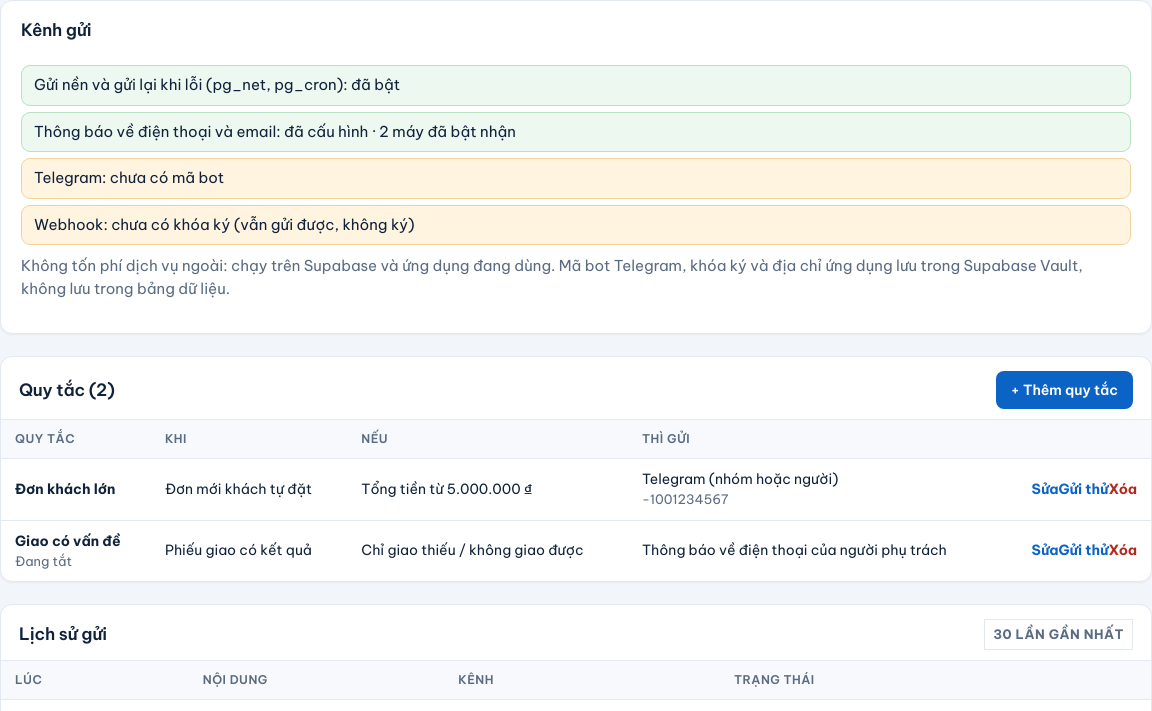
Test case: offers the problems-only condition just for delivery results and edits with the rule's version
Click the button "Sửa" in the row of "Giao có vấn đề".
click(1045, 551)  # box 1032,540 -> 1059,562
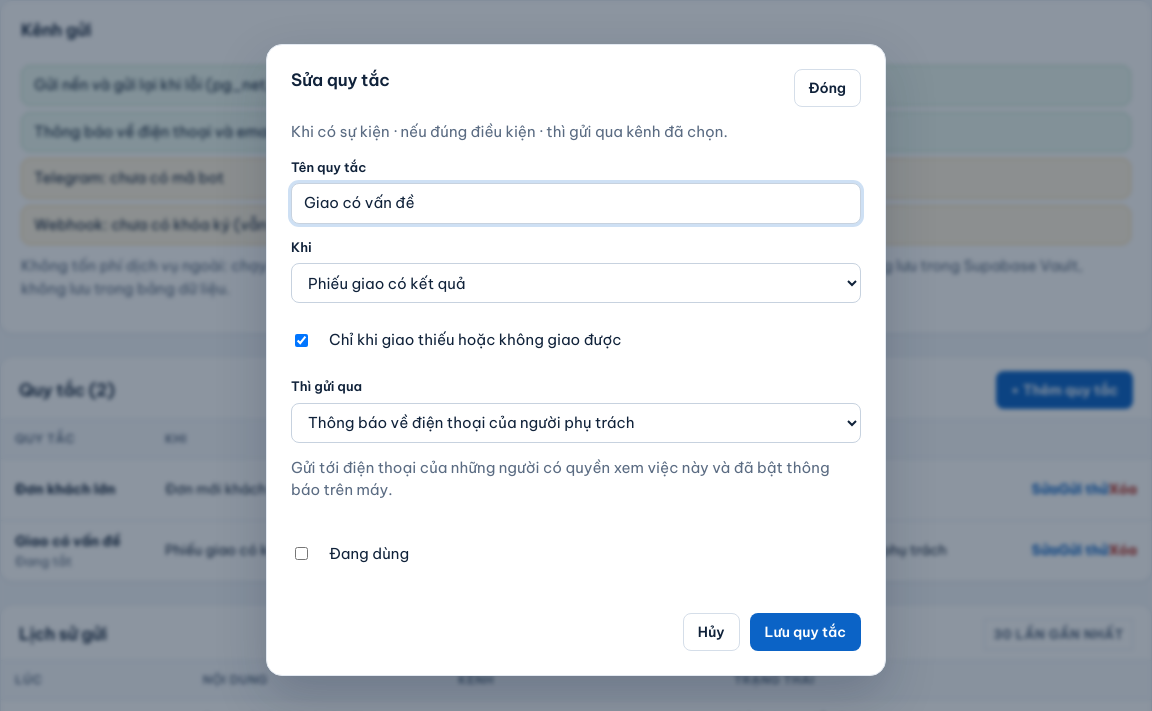
expect the checkbox labelled "Chỉ khi giao thiếu hoặc không giao được" is checked: met, box 295,334 -> 308,347
Click the button "Lưu quy tắc".
click(805, 632)  # box 750,613 -> 861,651
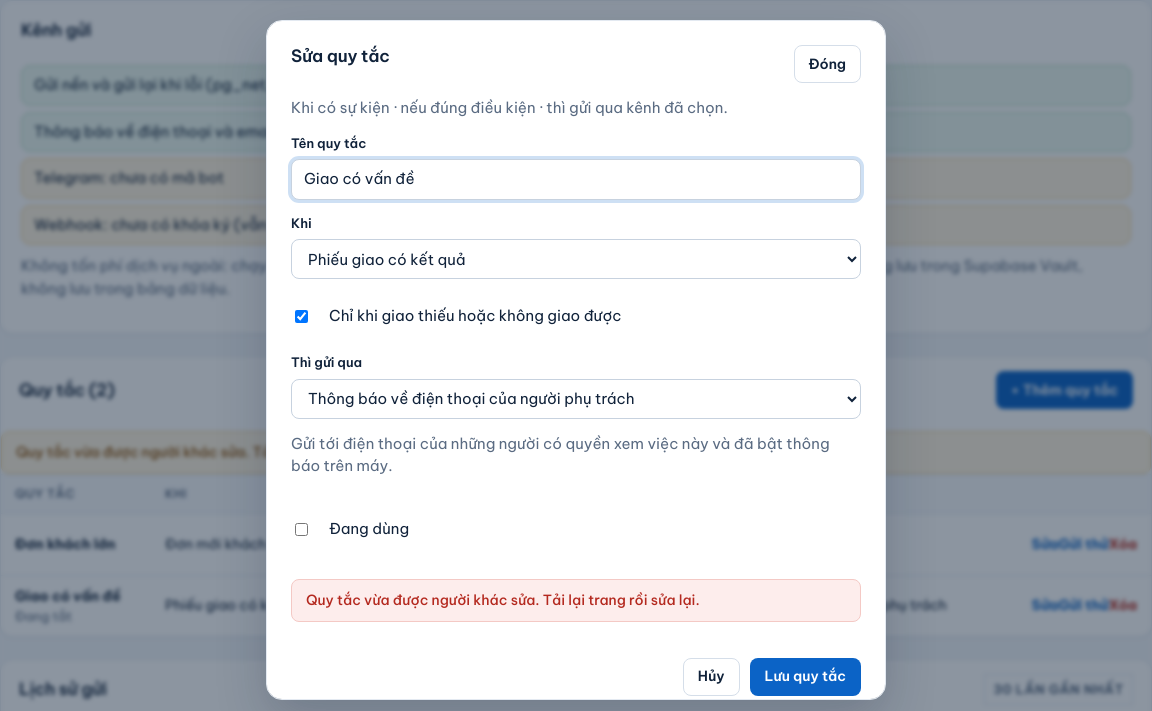
expect the message "Quy tắc vừa được người khác sửa. Tải lại trang rồi sửa lại." is shown: met, box 291,578 -> 861,622
